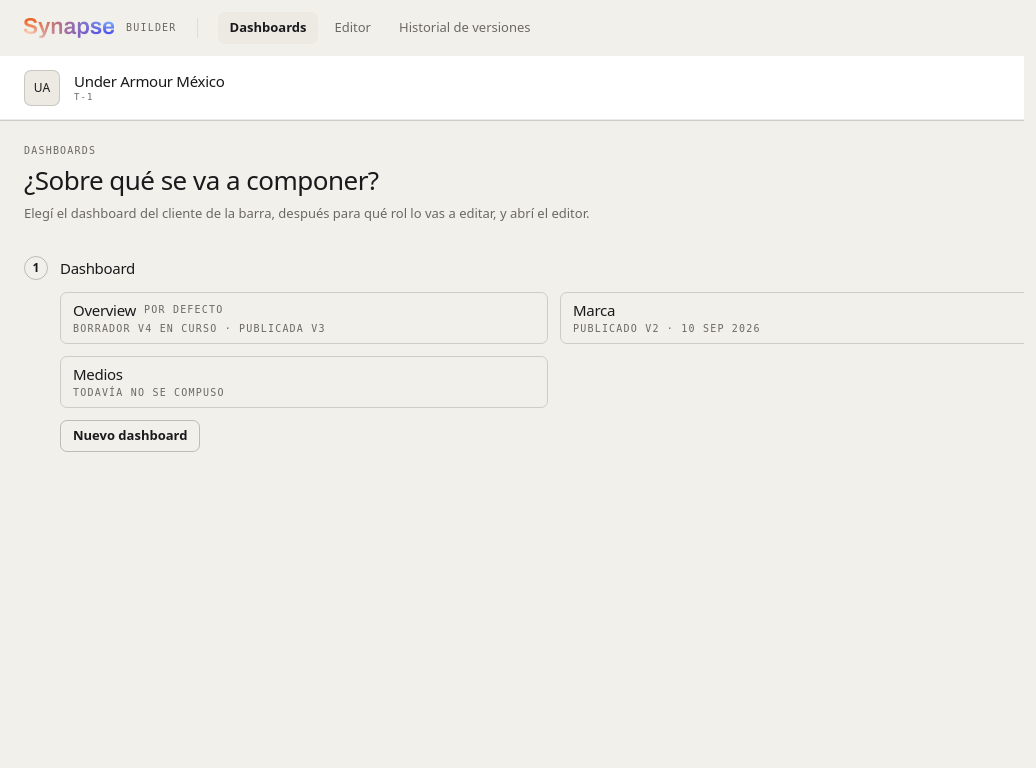
Test case: progresivo · D3: el rol y el editor aparecen recién con un dashboard elegido › al elegir uno aparecen los dos
Click the button "Overview Por defecto Borrador v4 en curso · publicada v3": (105, 310) 60,292 -> 548,344
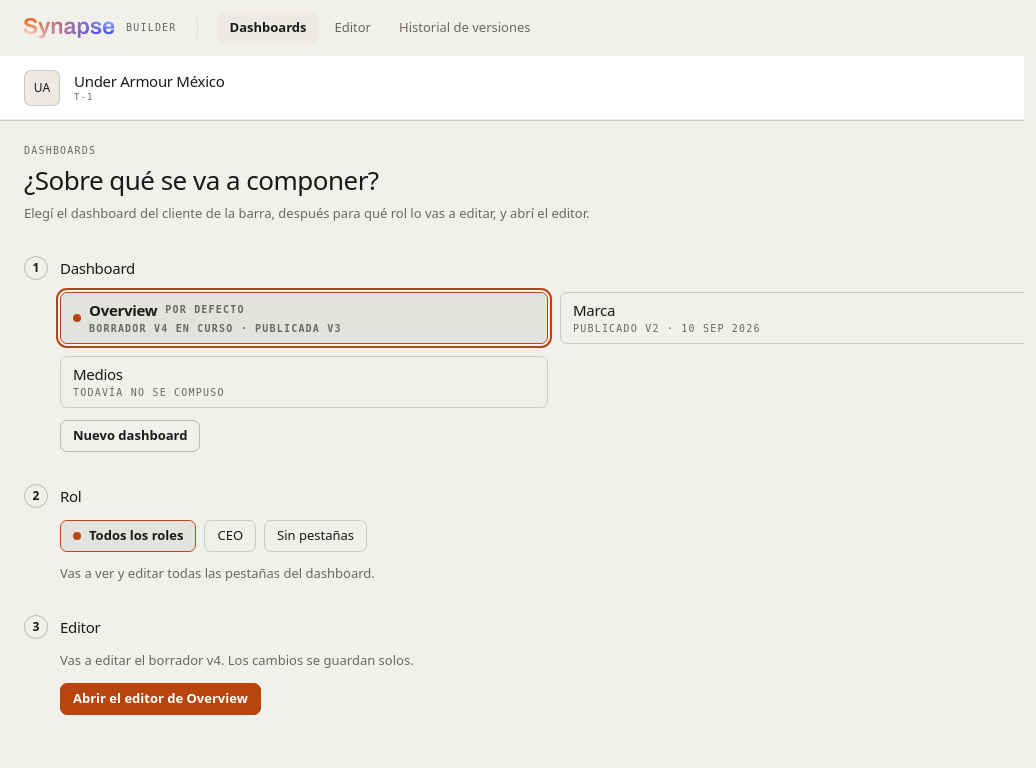
Expected: the element named "Paso 2 · Rol" is shown, 24,484 -> 375,582
Expected: the element named "Paso 3 · Editor" is shown, 24,615 -> 414,715
Expected: the button "Abrir el editor de Overview" is shown, 60,683 -> 261,715
